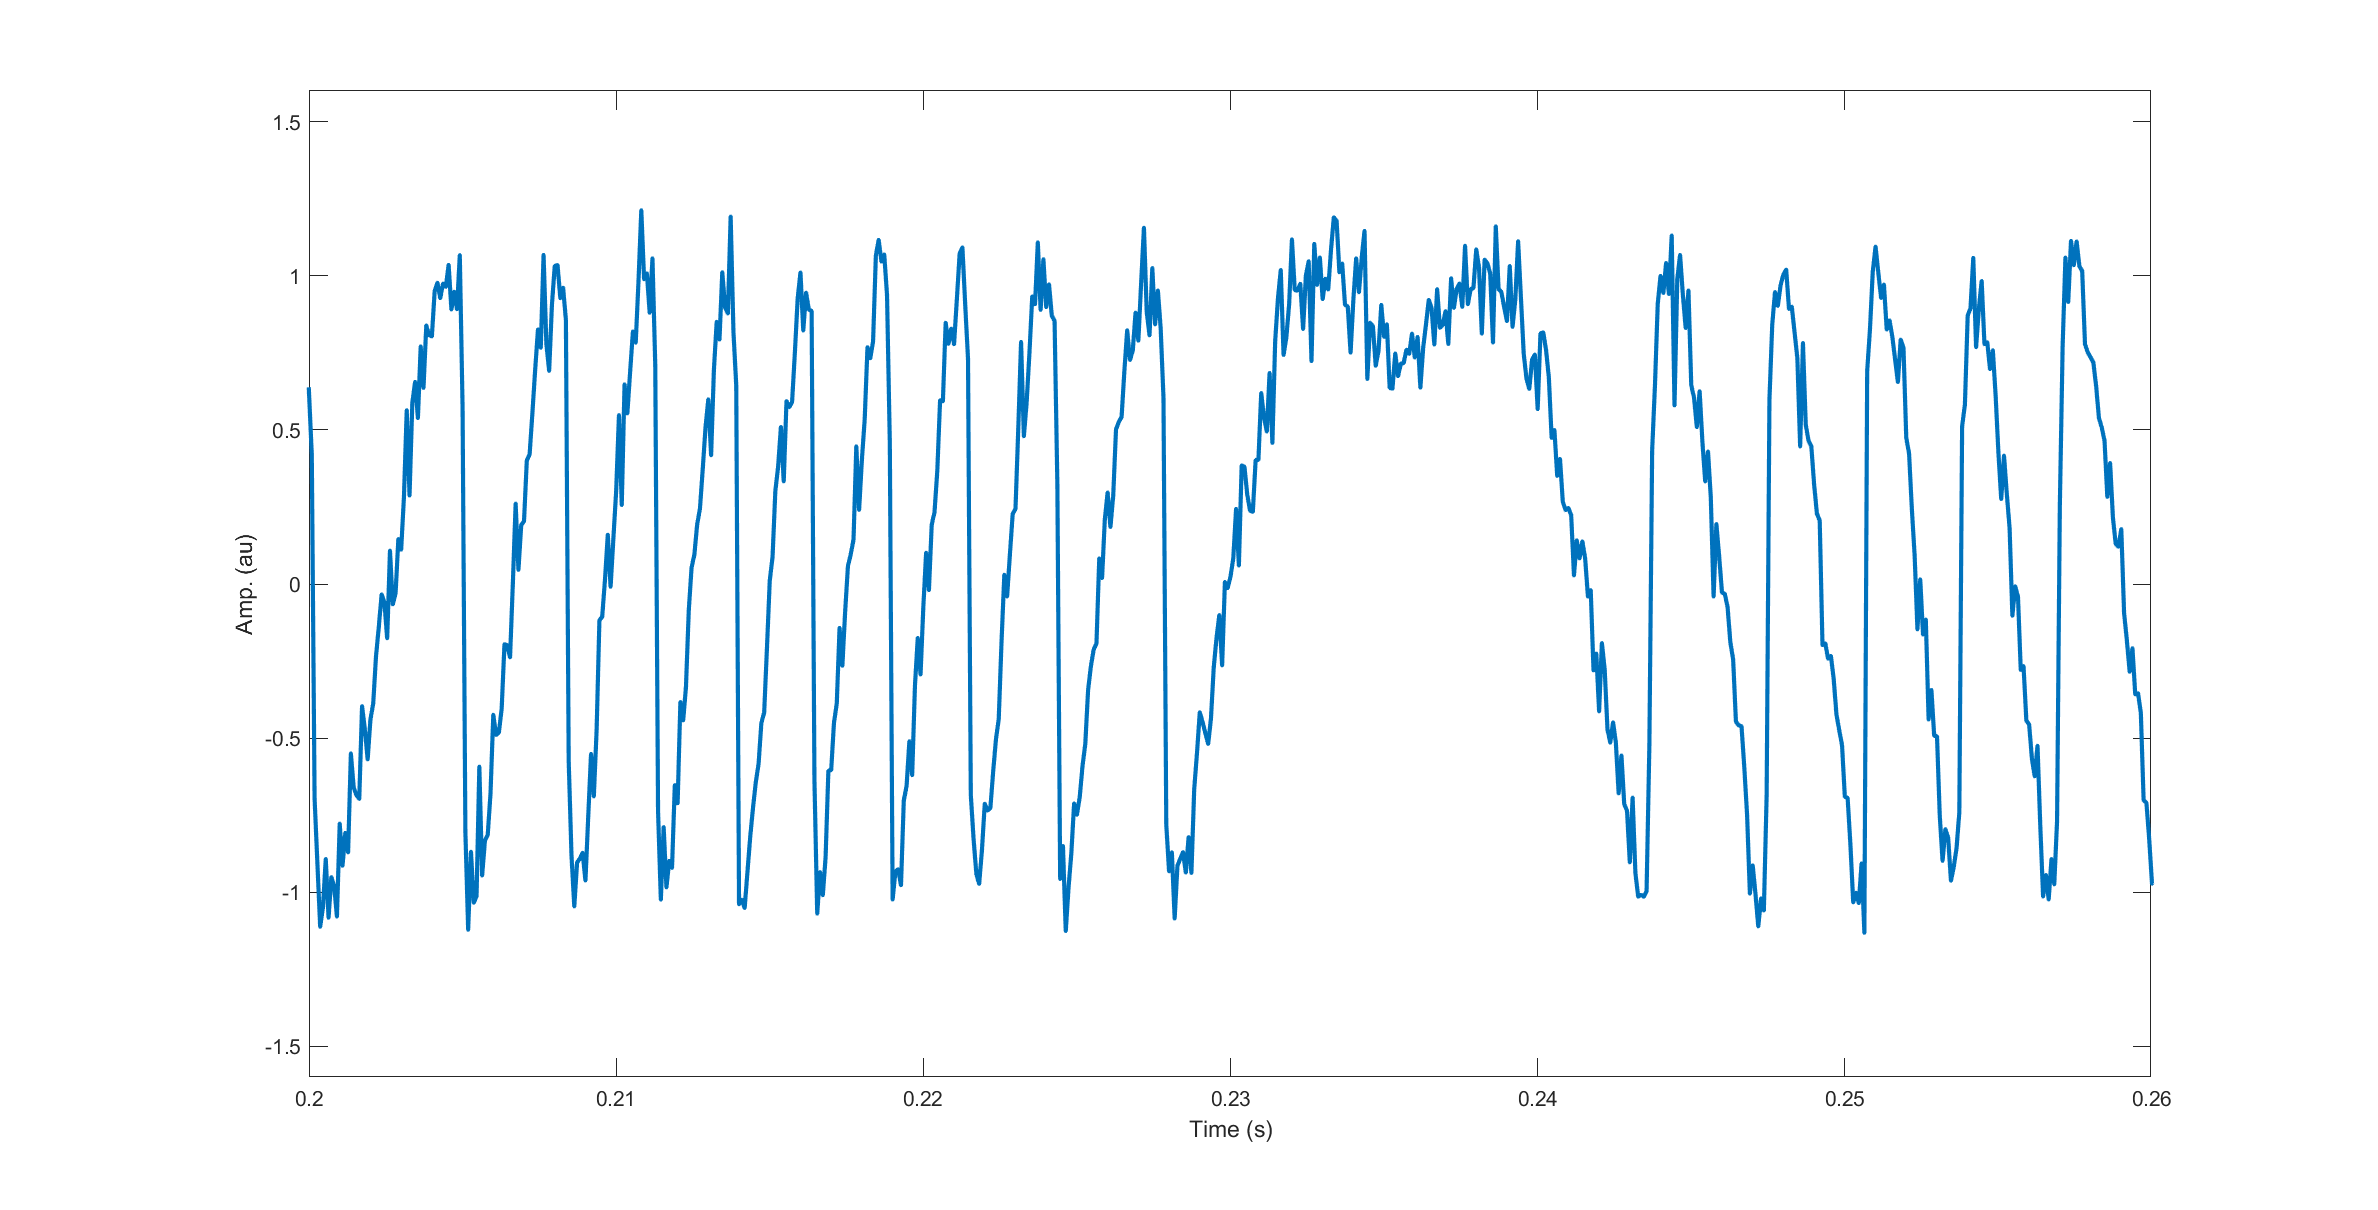negative_fringe: (1634, 225, 1756, 921), (1852, 230, 1941, 945), (2049, 230, 2140, 911), (1758, 265, 1850, 904), (1952, 245, 2039, 897)
positive_fringe: (333, 242, 481, 937), (1079, 216, 1181, 929), (983, 232, 1076, 938), (478, 248, 579, 898), (589, 201, 667, 894), (670, 208, 745, 891), (755, 261, 826, 921), (829, 238, 900, 894), (907, 241, 977, 889)
